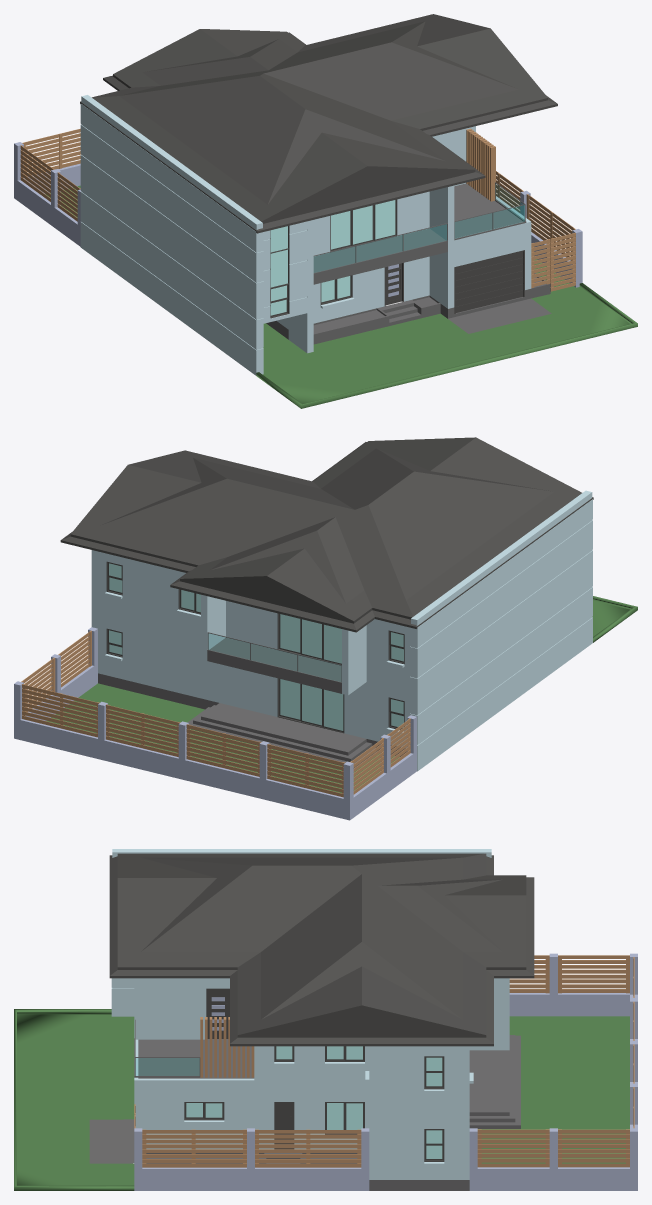
Rendered from Modern House_Interior_v2.5.gltf.
The picture shows the model from 3 angles, top to bottom: view 1: azimuth 30°, elevation 25°; view 2: azimuth 150°, elevation 25°; view 3: azimuth 270°, elevation 25°; orthographic projection. The views are drawn at different scales.
Parts seen in each view (by area): view 1: MH2_Main_Exterior, MH2_Roof_B, MH2_Roof_A, MH2_Ground_Base, MH2_Floor_Base, MH2_Outer_Railing, MH2_Railing, MH2_Doors, MH2_Outer_wall, MH2_Window; view 2: MH2_Main_Exterior, MH2_Roof_B, MH2_Roof_A, MH2_Outer_Railing, MH2_Outer_wall, MH2_Floor_Base, MH2_Ground_Base, MH2_Doors, MH2_Railing, MH2_Window; view 3: MH2_Roof_B, MH2_Main_Exterior, MH2_Ground_Base, MH2_Roof_A, MH2_Outer_Railing, MH2_Outer_wall, MH2_Floor_Base, MH2_Window, MH2_Railing, MH2_Doors.
Boxes of the visible parts, bbox=[...] form: MH2_Main_Exterior: bbox=[80, 95, 531, 375]; MH2_Roof_B: bbox=[80, 21, 557, 233]; MH2_Roof_A: bbox=[92, 14, 547, 223]; MH2_Ground_Base: bbox=[45, 185, 637, 408]; MH2_Floor_Base: bbox=[266, 183, 551, 344]; MH2_Outer_Railing: bbox=[20, 128, 575, 291]; MH2_Railing: bbox=[313, 128, 526, 284]; MH2_Doors: bbox=[330, 199, 524, 313]; MH2_Outer_wall: bbox=[14, 142, 582, 287]; MH2_Window: bbox=[270, 226, 352, 318]; MH2_Main_Exterior: bbox=[91, 490, 592, 771]; MH2_Roof_B: bbox=[60, 442, 593, 632]; MH2_Roof_A: bbox=[70, 437, 581, 623]; MH2_Outer_Railing: bbox=[21, 630, 410, 797]; MH2_Outer_wall: bbox=[14, 627, 417, 820]; MH2_Floor_Base: bbox=[98, 673, 407, 768]; MH2_Ground_Base: bbox=[46, 596, 637, 793]; MH2_Doors: bbox=[277, 613, 344, 733]; MH2_Railing: bbox=[207, 632, 341, 693]; MH2_Window: bbox=[106, 561, 404, 731]; MH2_Roof_B: bbox=[109, 855, 534, 1046]; MH2_Main_Exterior: bbox=[111, 849, 509, 1179]; MH2_Ground_Base: bbox=[14, 1009, 629, 1190]; MH2_Roof_A: bbox=[117, 853, 526, 1037]; MH2_Outer_Railing: bbox=[134, 955, 634, 1167]; MH2_Outer_wall: bbox=[134, 953, 637, 1190]; MH2_Floor_Base: bbox=[89, 1035, 520, 1190]; MH2_Window: bbox=[184, 1046, 444, 1161]; MH2_Railing: bbox=[134, 1017, 254, 1077]; MH2_Doors: bbox=[206, 988, 294, 1149].
Size of the model in its own units: 19.58 by 10.06 by 27.39.
